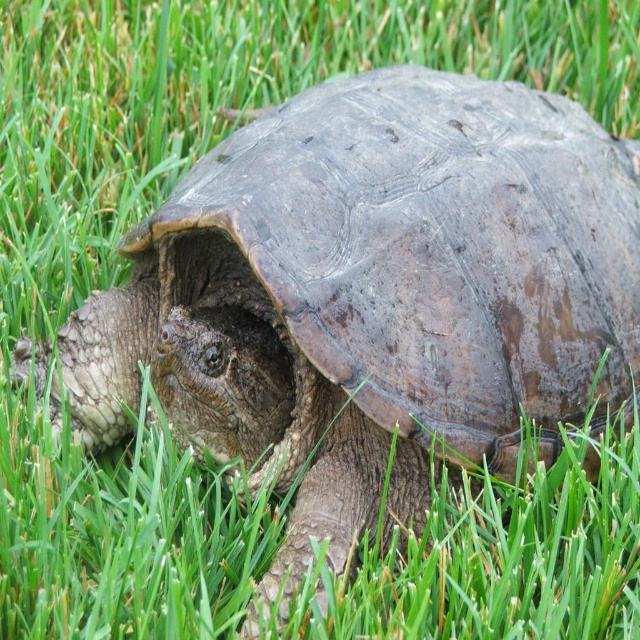Tortoise: (1, 63, 640, 640)
